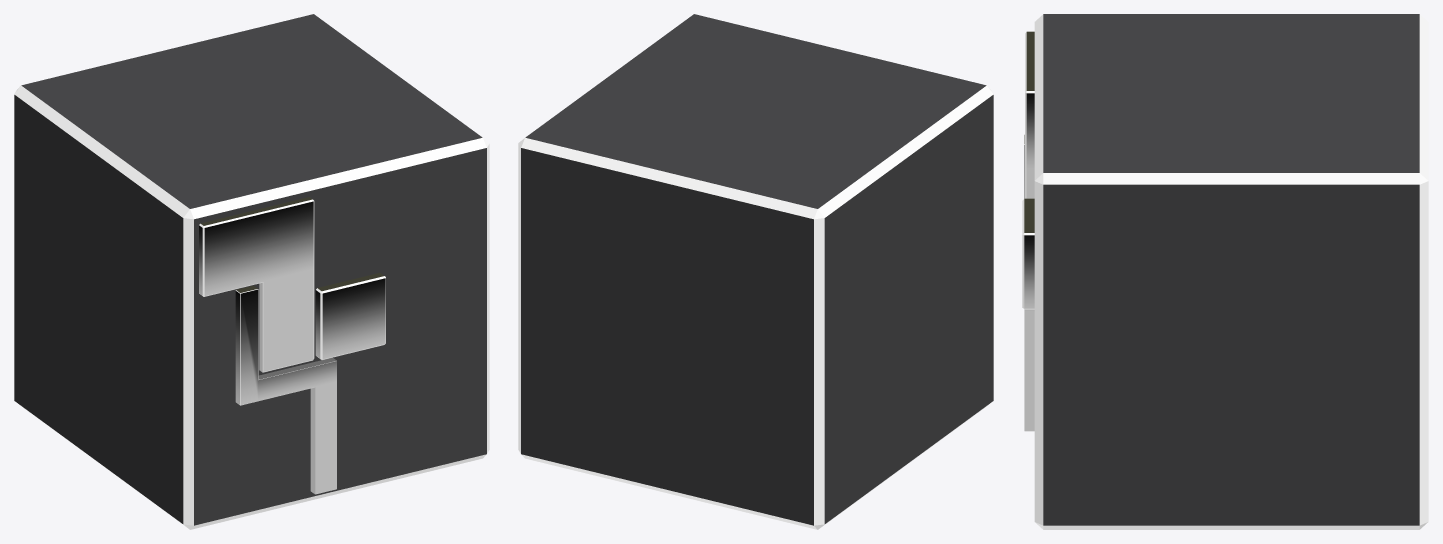
Rendered from 048ef4c7-7b3e-4ed4-b9cb-13ce46c9cfe7.glb.
3 views of the same model, side by side, from view 1: azimuth 30°, elevation 25°; view 2: azimuth 150°, elevation 25°; view 3: azimuth 270°, elevation 25° (orthographic). The views are drawn at different scales.
Visible parts, largest first — view 1: CyberPunkCubeShapeC.011; view 2: CyberPunkCubeShapeC.011; view 3: CyberPunkCubeShapeC.011.
Boxes of the visible parts, x1,y1,x2,y2 form: CyberPunkCubeShapeC.011: [14, 14, 489, 529]; CyberPunkCubeShapeC.011: [518, 14, 993, 529]; CyberPunkCubeShapeC.011: [1022, 14, 1428, 529].
Size of what is drawn, in the model's own units: 0.7683 by 0.7683 by 0.7918.
2 materials, 2 textured.
